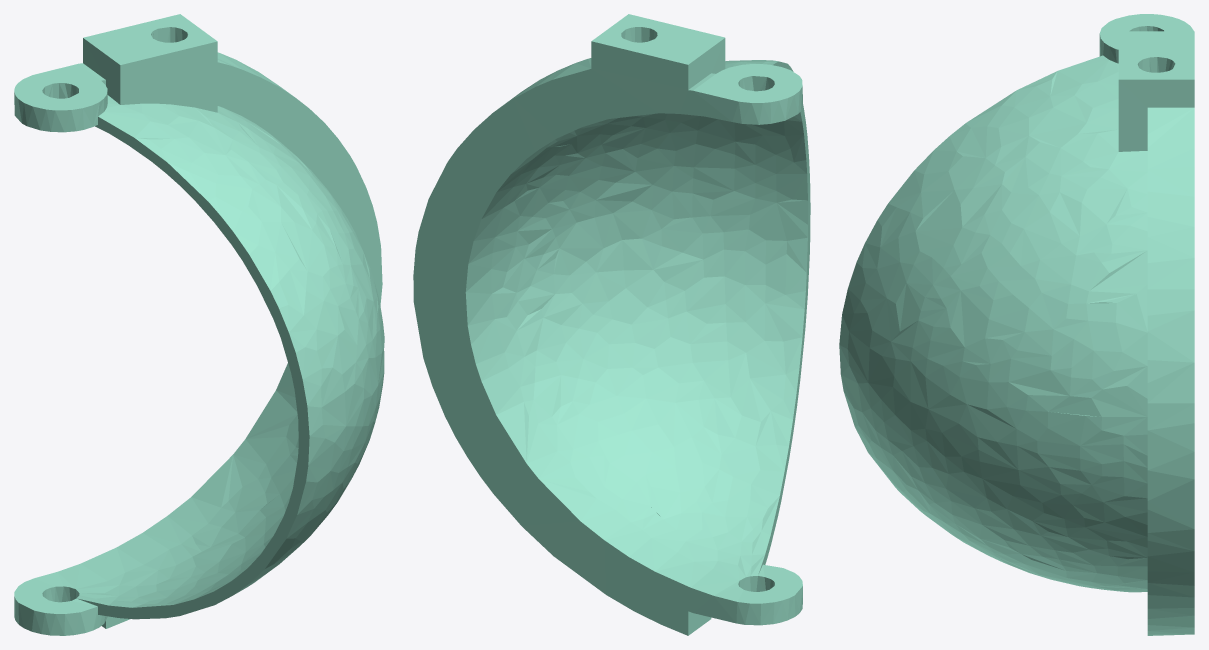
The model's file is i02_head_right_top_eyelid_visual.obj.balanced.glb.
3 renders of one model, left to right at view 1: azimuth 30°, elevation 25°; view 2: azimuth 150°, elevation 25°; view 3: azimuth 270°, elevation 25°, orthographic. The views are drawn at different scales.
Size of the model in its own units: 0.2107 by 0.3191 by 0.1761.
